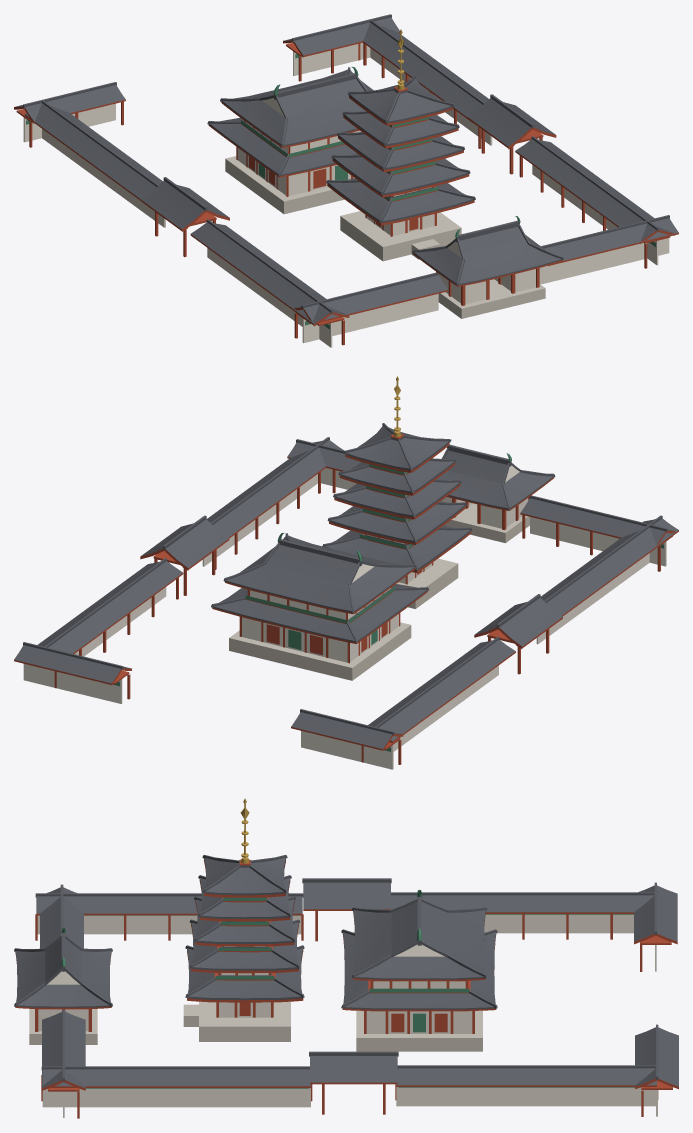
File: osaka-shitennoji.glb
3 views of the same model, one above another, from view 1: azimuth 30°, elevation 25°; view 2: azimuth 150°, elevation 25°; view 3: azimuth 270°, elevation 25° (orthographic). The views are drawn at different scales.
Visible parts, largest first — view 1: Shitennō-ji; view 2: Shitennō-ji; view 3: Shitennō-ji.
Boxes of the visible parts, box(x1,y1,x2,y2) form: Shitennō-ji: box(14, 14, 678, 347); Shitennō-ji: box(14, 376, 678, 769); Shitennō-ji: box(14, 798, 678, 1118).
Bounding box in the file's own units: 77.15 × 40.4 × 109.
